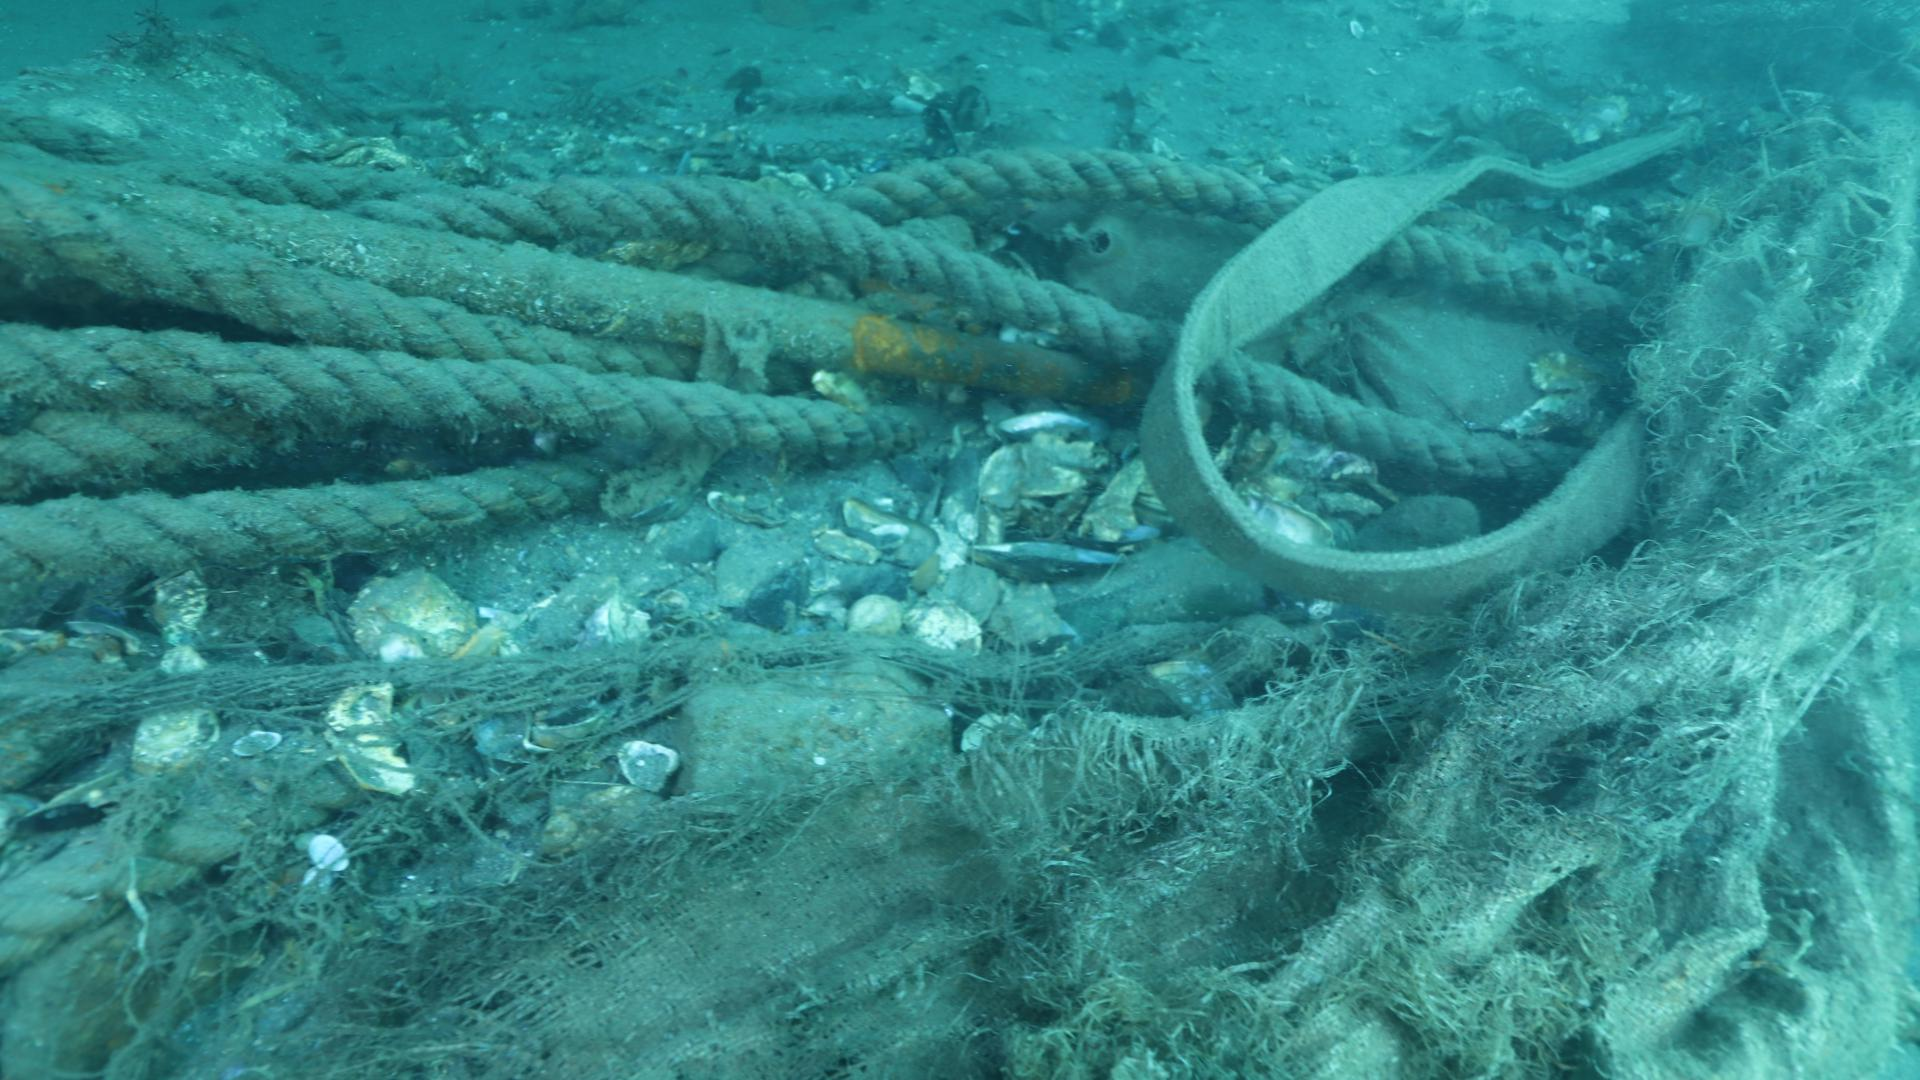bundle of ropes: (0, 91, 1640, 585)
